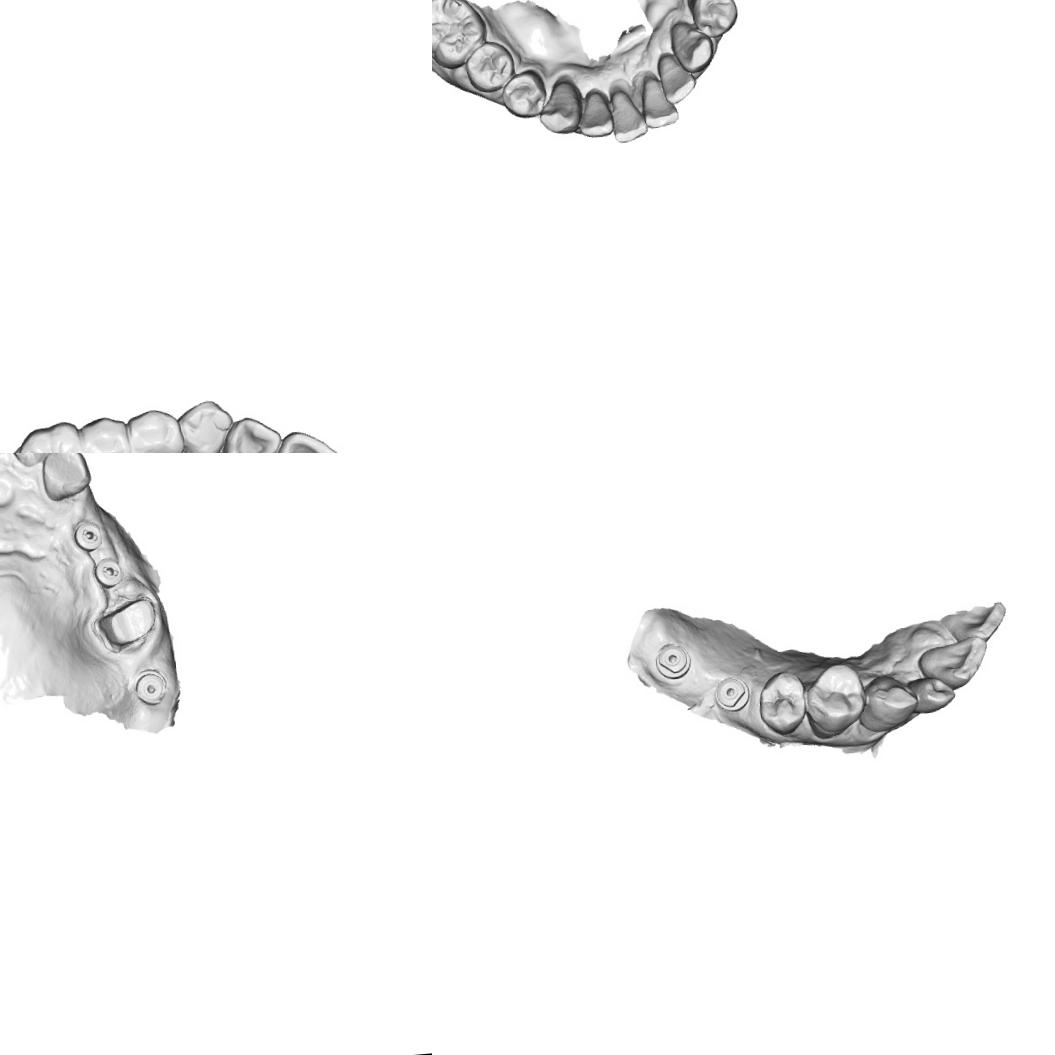canine: (855, 670, 919, 734), (174, 396, 238, 453), (534, 75, 583, 136), (668, 16, 716, 76), (38, 453, 94, 504)
crown: (90, 590, 161, 657)
implant: (652, 640, 694, 683), (130, 665, 170, 708), (711, 674, 752, 712)
implant_minus: (68, 516, 106, 554), (90, 552, 126, 590)
incisor: (915, 636, 992, 692), (938, 601, 1008, 645), (218, 413, 284, 453), (606, 84, 649, 144), (654, 48, 698, 106), (637, 71, 680, 130), (574, 85, 618, 141), (263, 425, 347, 453), (905, 672, 958, 716), (5, 453, 57, 468)
molar: (432, 0, 491, 73), (13, 417, 92, 453)
premolar: (801, 659, 869, 738), (754, 668, 810, 737), (460, 36, 520, 93), (124, 404, 188, 453), (497, 66, 550, 121), (78, 412, 133, 453), (686, 0, 741, 39)
